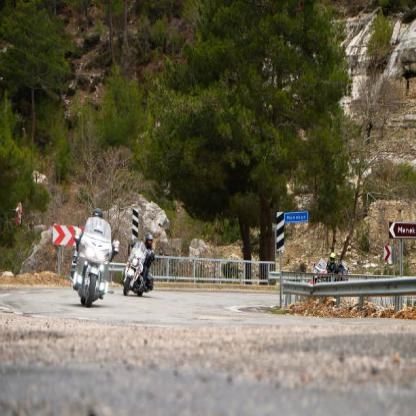Motorcycle: (67, 218, 113, 302)
